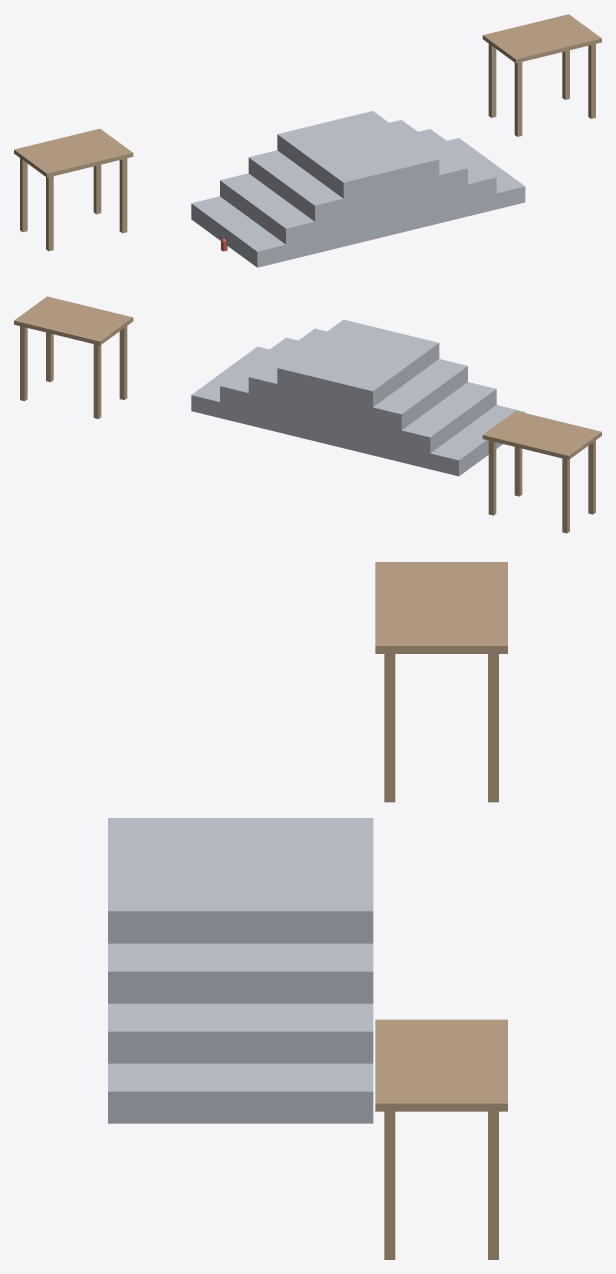
File: hum_08_stairs_carry_props.glb
3 renders of one model, top to bottom at view 1: azimuth 30°, elevation 25°; view 2: azimuth 150°, elevation 25°; view 3: azimuth 270°, elevation 25°, orthographic. The views are drawn at different scales.
Visible parts, largest first — view 1: s_terrain, s_box_00, s_box_05, s_box_07, s_box_01, s_box_09, s_box_02, s_box_06, s_box_04, s_box_03, s_box_08; view 2: s_terrain, s_box_00, s_box_05, s_box_09, s_box_03, s_box_07, s_box_04, s_box_08, s_box_02, s_box_01, s_box_06; view 3: s_terrain, s_box_05, s_box_00, s_box_01, s_box_06, s_box_03, s_box_08.
Boxes of the visible parts, <box> form: s_terrain: <box>191,111,525,267</box>; s_box_00: <box>14,128,133,177</box>; s_box_05: <box>482,14,601,63</box>; s_box_07: <box>514,62,522,136</box>; s_box_01: <box>119,158,127,233</box>; s_box_09: <box>488,44,496,117</box>; s_box_02: <box>46,176,53,251</box>; s_box_06: <box>588,44,595,118</box>; s_box_04: <box>20,158,27,232</box>; s_box_03: <box>93,164,101,214</box>; s_box_08: <box>562,50,569,99</box>; s_terrain: <box>191,319,525,476</box>; s_box_00: <box>482,411,601,459</box>; s_box_05: <box>14,296,133,345</box>; s_box_09: <box>93,344,101,418</box>; s_box_03: <box>488,440,496,515</box>; s_box_07: <box>119,326,127,399</box>; s_box_04: <box>562,458,569,533</box>; s_box_08: <box>20,326,27,400</box>; s_box_02: <box>588,440,595,514</box>; s_box_01: <box>514,447,522,496</box>; s_box_06: <box>46,332,53,382</box>; s_terrain: <box>108,818,373,1123</box>; s_box_05: <box>375,1019,507,1111</box>; s_box_00: <box>375,562,507,653</box>; s_box_01: <box>384,654,395,802</box>; s_box_06: <box>384,1111,395,1259</box>; s_box_03: <box>488,654,498,802</box>; s_box_08: <box>488,1111,498,1259</box>.
Bounding box in the file's own units: 5.8 × 0.8683 × 1.81.
